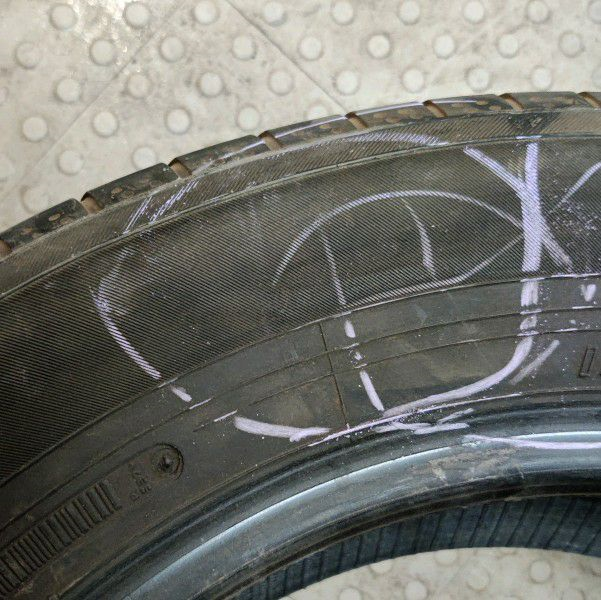CBU: (262, 236, 445, 303)
